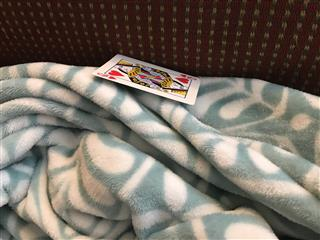QueenOfHearts: (92, 53, 200, 105)
